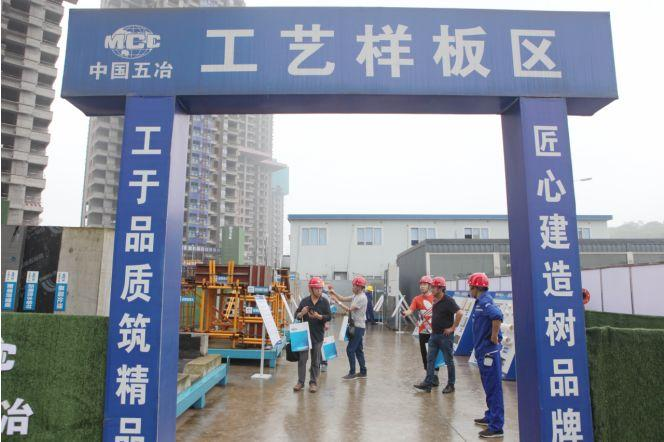helmet: (469, 274, 490, 291), (417, 272, 436, 290), (309, 277, 323, 290), (434, 278, 449, 289), (354, 278, 368, 288)
